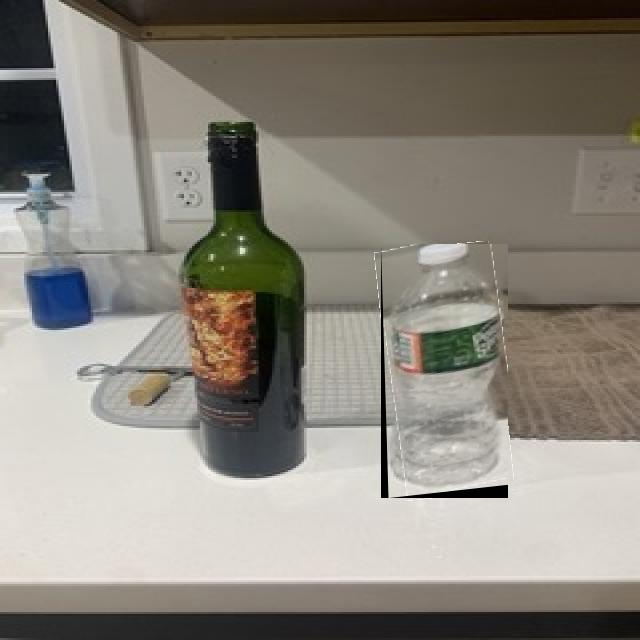water_bottle: (381, 244, 508, 498)
